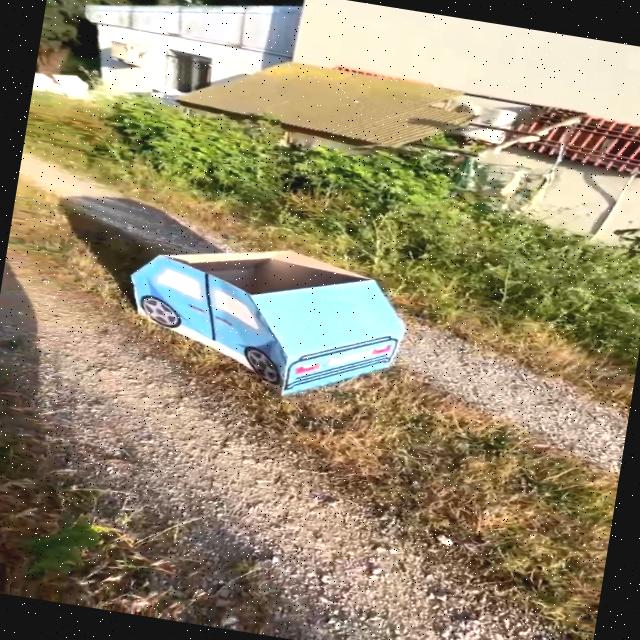blue_car: (105, 211, 473, 443)
